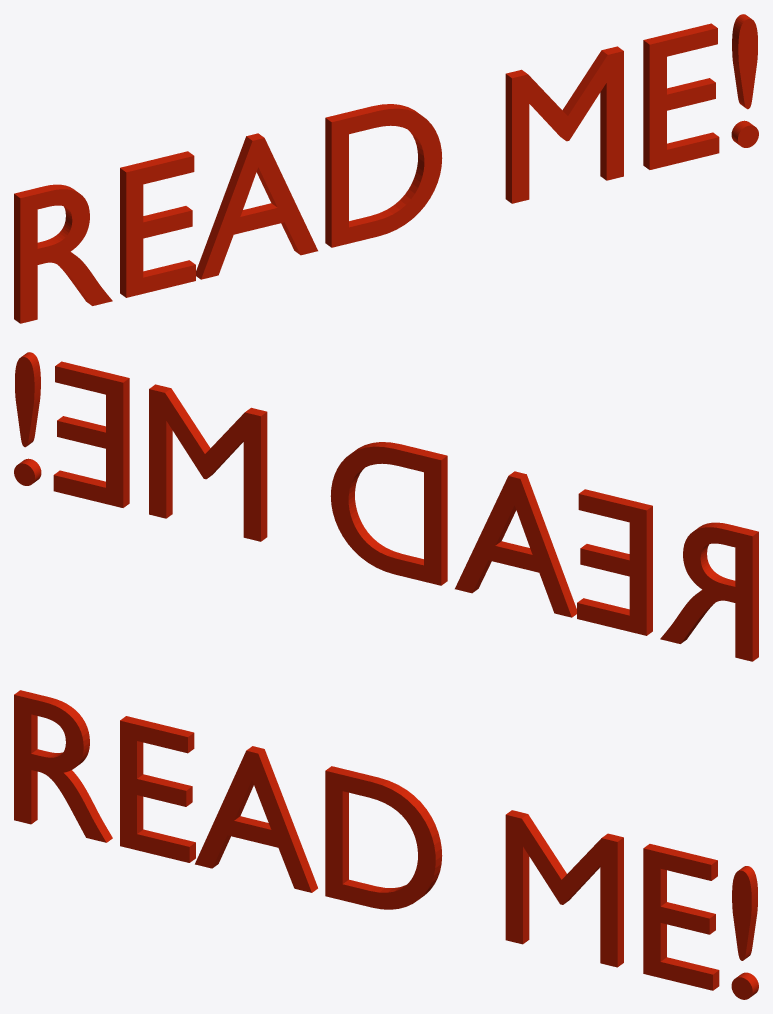
File: readme.fbx
3 renders of one model, top to bottom at view 1: azimuth 30°, elevation 25°; view 2: azimuth 150°, elevation 25°; view 3: azimuth 330°, elevation 25°, orthographic.
Parts seen in each view (by area): view 1: Text; view 2: Text; view 3: Text.
Part boxes in pixels (left/top/right/bottom): Text: left=14, top=14, right=758, bottom=323; Text: left=14, top=352, right=758, bottom=661; Text: left=14, top=690, right=758, bottom=999.
Bounding box in the file's own units: 420 × 70 × 6.27.
